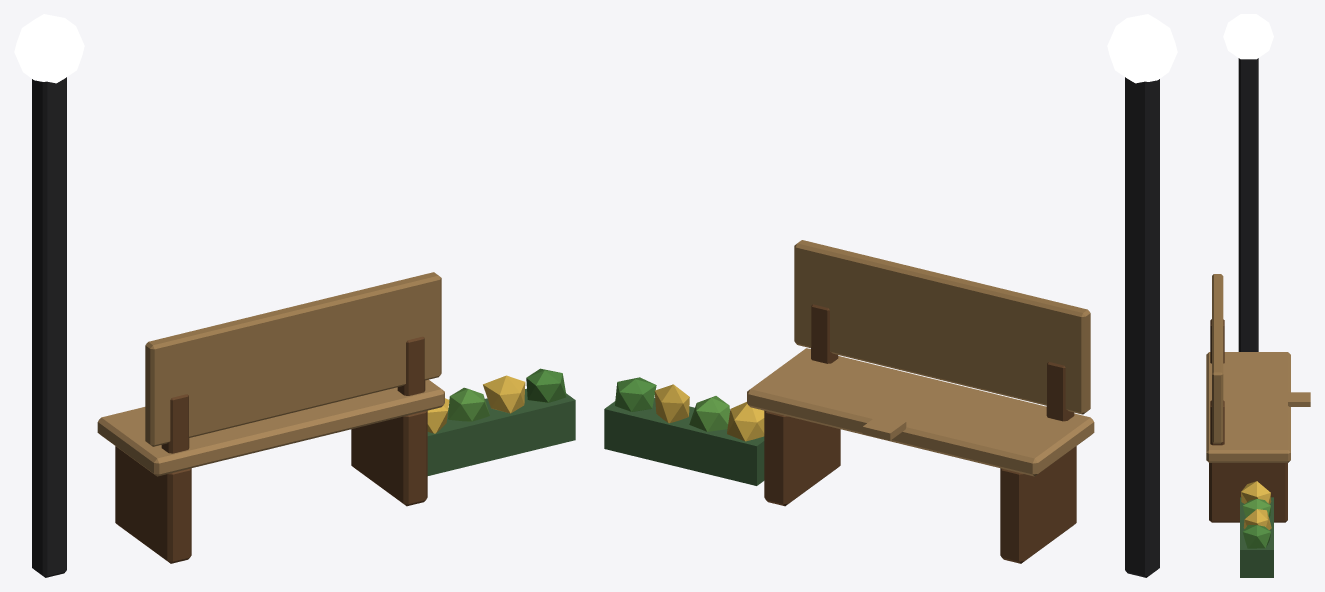
The model's file is SceneBench.glb.
The picture shows the model from 3 angles, left to right: view 1: azimuth 30°, elevation 25°; view 2: azimuth 150°, elevation 25°; view 3: azimuth 270°, elevation 25°; orthographic projection. The views are drawn at different scales.
Parts seen in each view (by area): view 1: Body, Glow; view 2: Body, Glow, Stand; view 3: Body, Glow, Stand.
Part boxes in pixels (bbox=[...]): Body: bbox=[32, 77, 575, 577]; Glow: bbox=[14, 14, 84, 83]; Body: bbox=[604, 77, 1159, 577]; Glow: bbox=[1107, 14, 1177, 83]; Stand: bbox=[862, 415, 906, 440]; Body: bbox=[1206, 58, 1290, 577]; Glow: bbox=[1223, 14, 1273, 59]; Stand: bbox=[1288, 392, 1310, 406].
Size of what is drawn, in the model's own units: 7.93 by 7.63 by 1.85.
